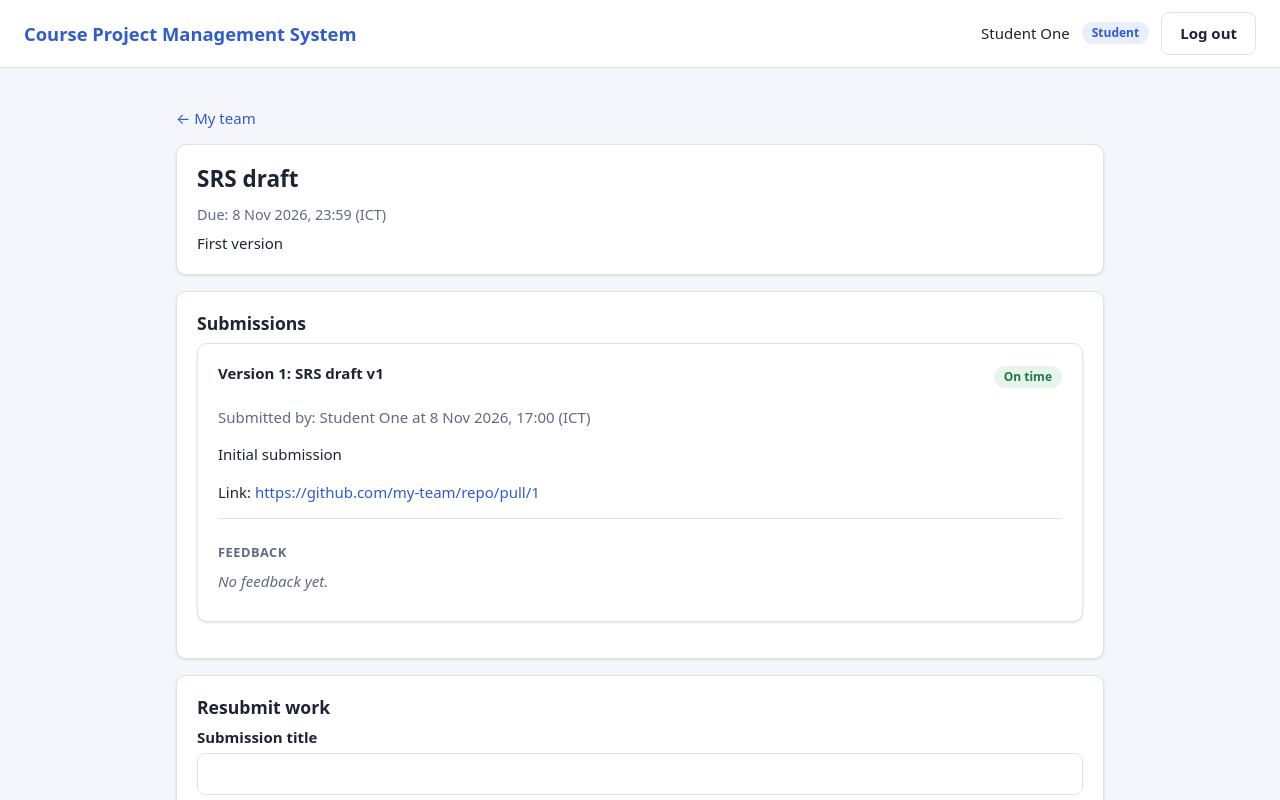
Test: F-03 Submissions UI › TEST-03-15: student views milestone detail, submissions list and submits a new version
expect the heading "SRS draft" is shown: met, box [197,163,299,194]
expect the text "8 Nov 2026, 23:59 (ICT)" is shown: met, box [232,205,386,224]
# Fill submit form
Step 1. Type "SRS draft v2" into the field labelled "Submission title" → (640, 774), box [197,753,1083,796]
(page scrolled)
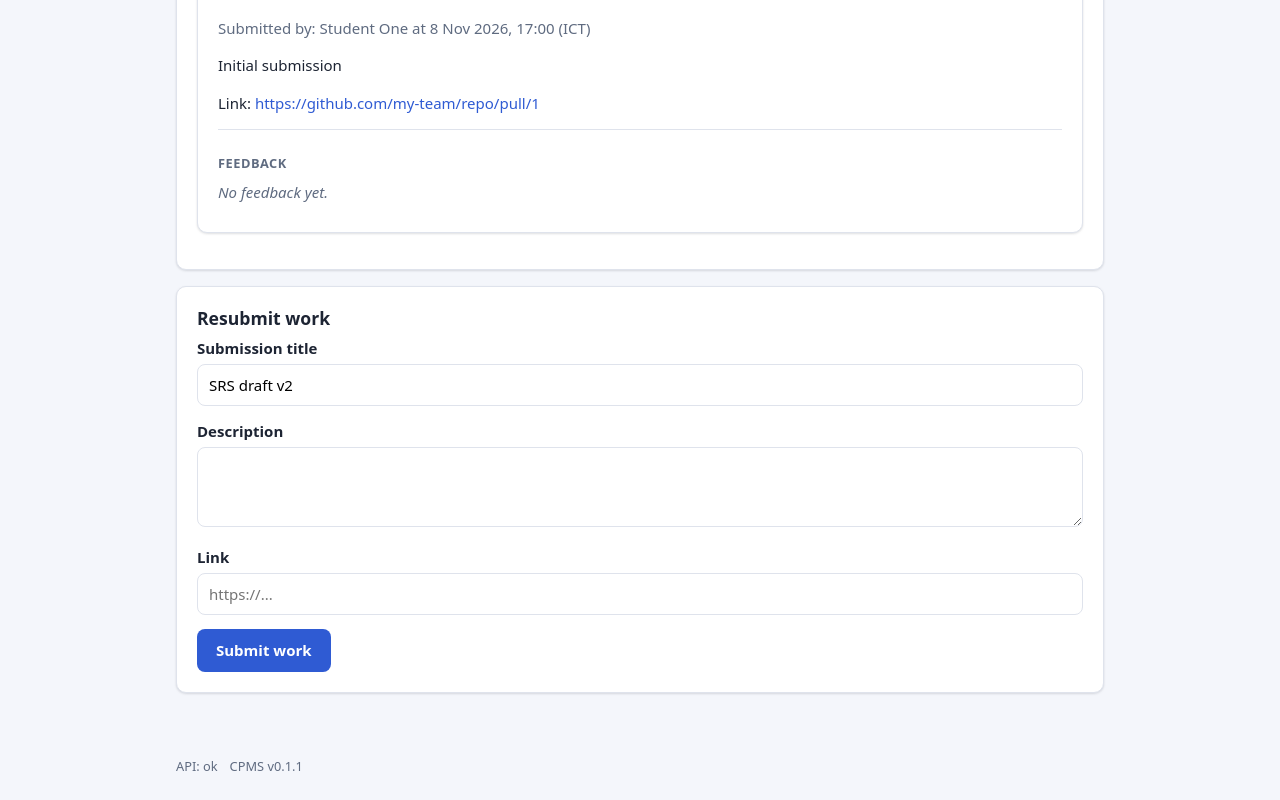
Step 2. Type "https://github.com/my-team/repo/pull/2" into the field labelled "Link" → (640, 594), box [197,573,1083,616]
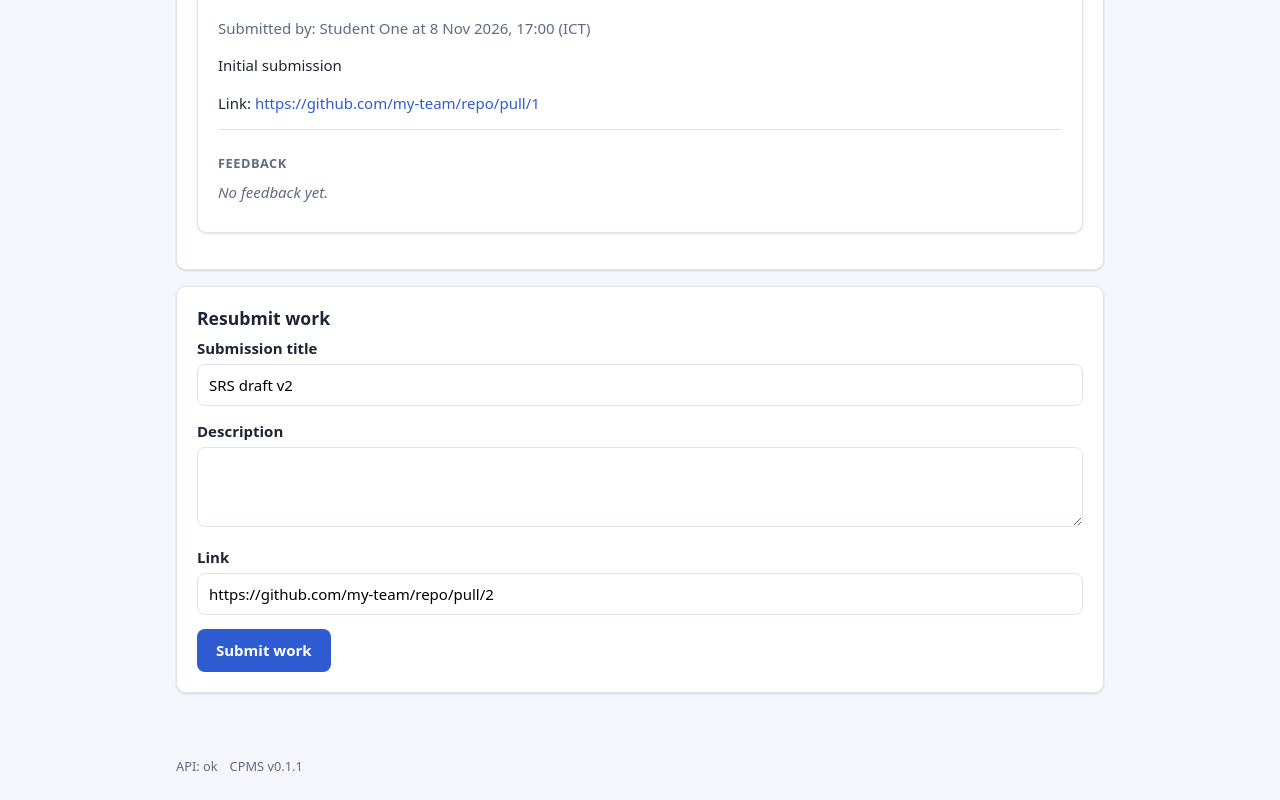
Step 3. Click the button "Submit work" → (264, 651), box [197,630,331,672]
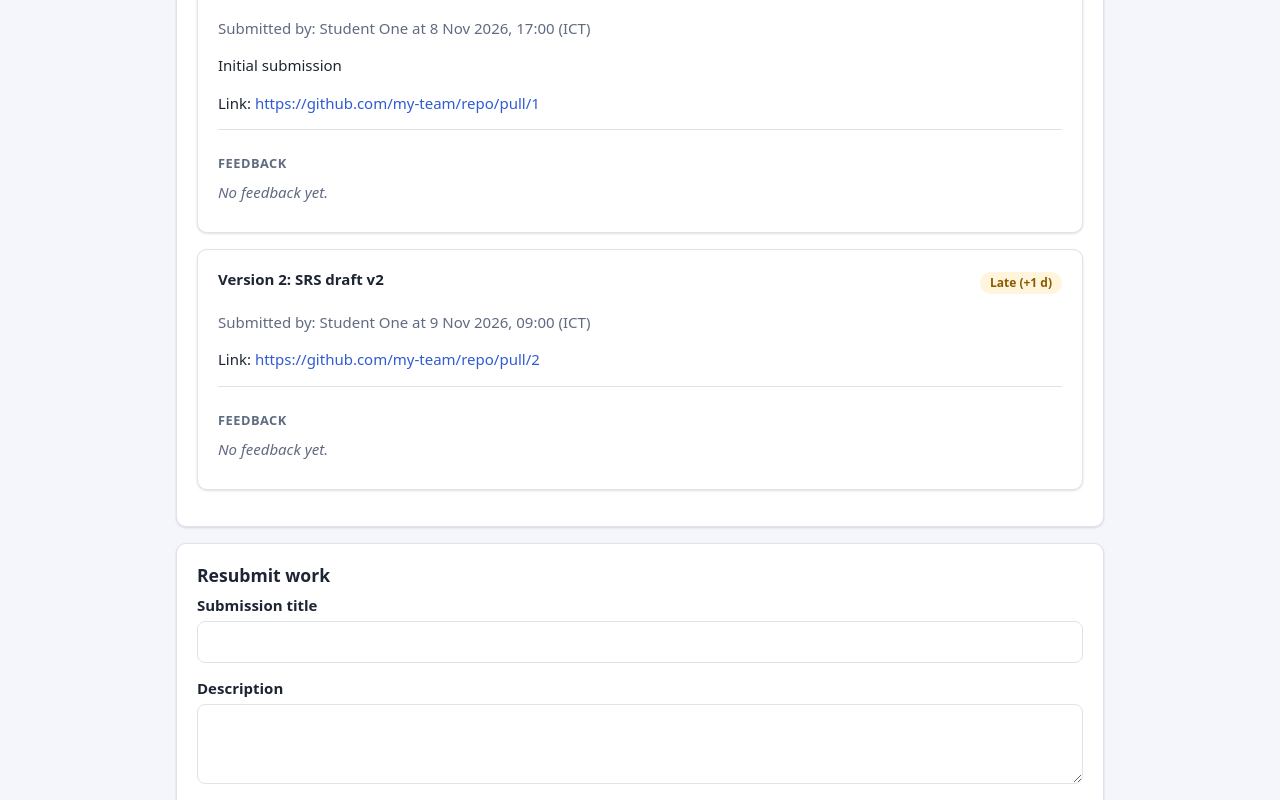
expect the heading "Version 2: SRS draft v2" is shown: met, box [218,270,384,288]
